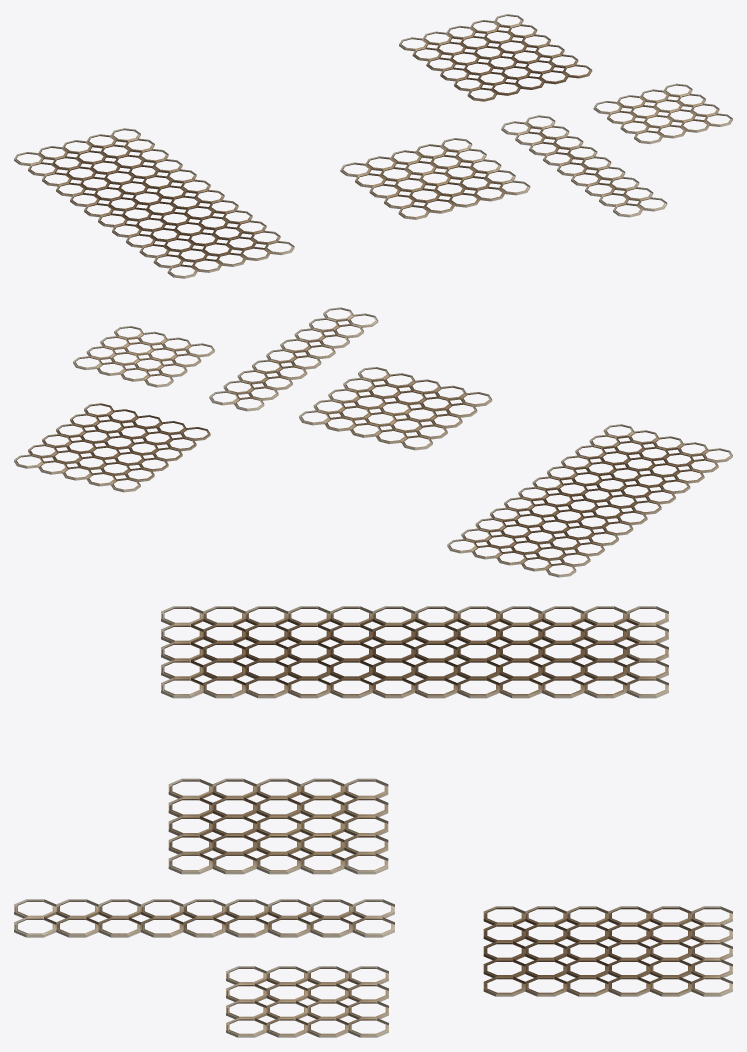
File: Museum_Ceiling_Design.FBX
3 views of the same model, one above another, from view 1: azimuth 30°, elevation 25°; view 2: azimuth 150°, elevation 25°; view 3: azimuth 270°, elevation 25° (orthographic). The views are drawn at different scales.
Parts seen in each view (by area): view 1: Museum_Ceiling_Design; view 2: Museum_Ceiling_Design; view 3: Museum_Ceiling_Design.
Part boxes in pixels (x1,y1,x2,y2): Museum_Ceiling_Design: (14,14,732,278); Museum_Ceiling_Design: (14,307,732,577); Museum_Ceiling_Design: (14,606,732,1037).
Size of the model in its own units: 13897 by 41.86 by 9843.
Materials: 1 (1 with a texture image).
